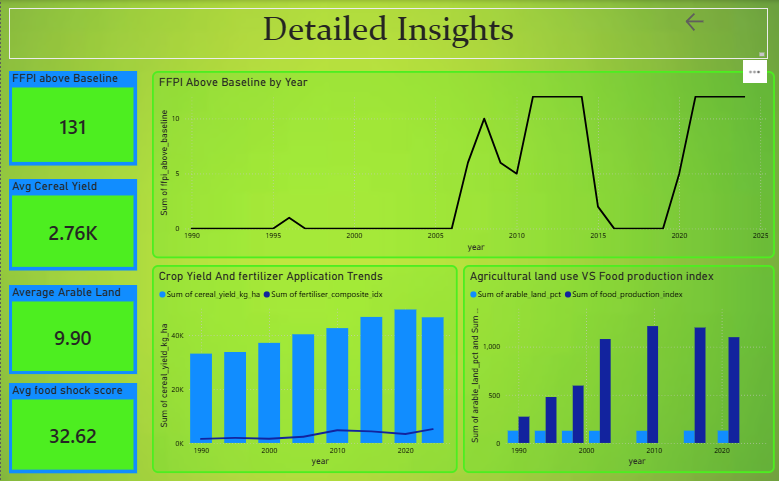

The dashboard page shown, as its layout file describes it:
{"tool":"powerbi","page":{"name":"Detailed Insights","canvas":[1280,790],"ordinal":5},"visuals":[{"type":"clusteredColumnChart","title":"Agricultural land use VS Food production index","fields":{"Y":["Sum(food_security_panel (1).arable_land_pct)","Sum(food_security_panel (1).food_production_index)"],"Category":["food_security_panel (1).year"]},"box":[757.6,435.1,510.7,341],"z":0},{"type":"lineChart","title":"FFPI Above Baseline by Year","fields":{"Category":["food_security_panel (1).year"],"Y":["Sum(food_security_panel (1).ffpi_above_baseline)"]},"box":[246.9,115.9,1021.3,307.4],"z":1000},{"type":"lineStackedColumnComboChart","title":"Crop Yield And fertilizer Application Trends ","fields":{"Category":["food_security_panel (1).year"],"Y":["Sum(food_security_panel (1).cereal_yield_kg_ha)"],"Y2":["Sum(food_security_panel (1).fertiliser_composite_idx)"]},"box":[246.9,435.1,500.6,341],"z":2000},{"type":"cardVisual","title":"Avg food shock score","fields":{"Data":["metrics.Avg food shock score"]},"box":[13.4,628.2,210,147.8],"z":3000},{"type":"cardVisual","title":"Average Arable Land ","fields":{"Data":["metrics.Avg Arable Land"]},"box":[13.4,467,210,146.1],"z":4000},{"type":"cardVisual","title":"Avg Cereal Yield","fields":{"Data":["metrics.Avg Cereal Yield"]},"box":[13.4,294,210,149.5],"z":5000},{"type":"cardVisual","title":"FFPI above Baseline","fields":{"Data":["Sum(food_security_panel (1).ffpi_above_baseline)"]},"box":[13.4,115.9,210,154.5],"z":6000},{"type":"textbox","title":"Detailed Insights","box":[13.4,13.4,1243,84],"z":7000},{"type":"actionButton","box":[1117.8,16.4,100,39.3],"z":7001}]}

Visuals, with their boxes in screenshot pixels (x1, y1, x2, y2), scaled from the page's 1280x790 canvas onto the 779x481 screenshot:
"Agricultural land use VS Food production index" clusteredColumnChart: detection(461, 265, 772, 473)
"FFPI Above Baseline by Year" lineChart: detection(150, 71, 772, 258)
"Crop Yield And fertilizer Application Trends " lineStackedColumnComboChart: detection(150, 265, 455, 473)
"Avg food shock score" cardVisual: detection(8, 382, 136, 472)
"Average Arable Land " cardVisual: detection(8, 284, 136, 373)
"Avg Cereal Yield" cardVisual: detection(8, 179, 136, 270)
"FFPI above Baseline" cardVisual: detection(8, 71, 136, 165)
"Detailed Insights" textbox: detection(8, 8, 765, 59)
actionButton: detection(680, 10, 741, 34)
